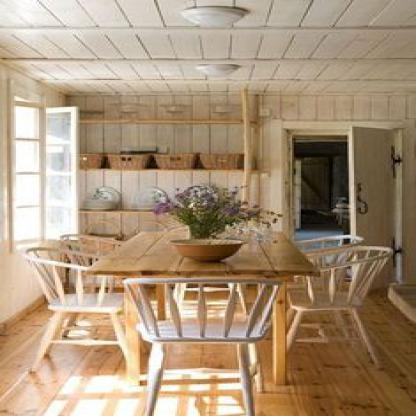chair: (117, 270, 281, 416), (19, 234, 132, 381), (285, 241, 392, 374)
door: (347, 118, 411, 292)
light: (179, 3, 251, 38), (192, 57, 244, 84)
table: (83, 193, 325, 386)
